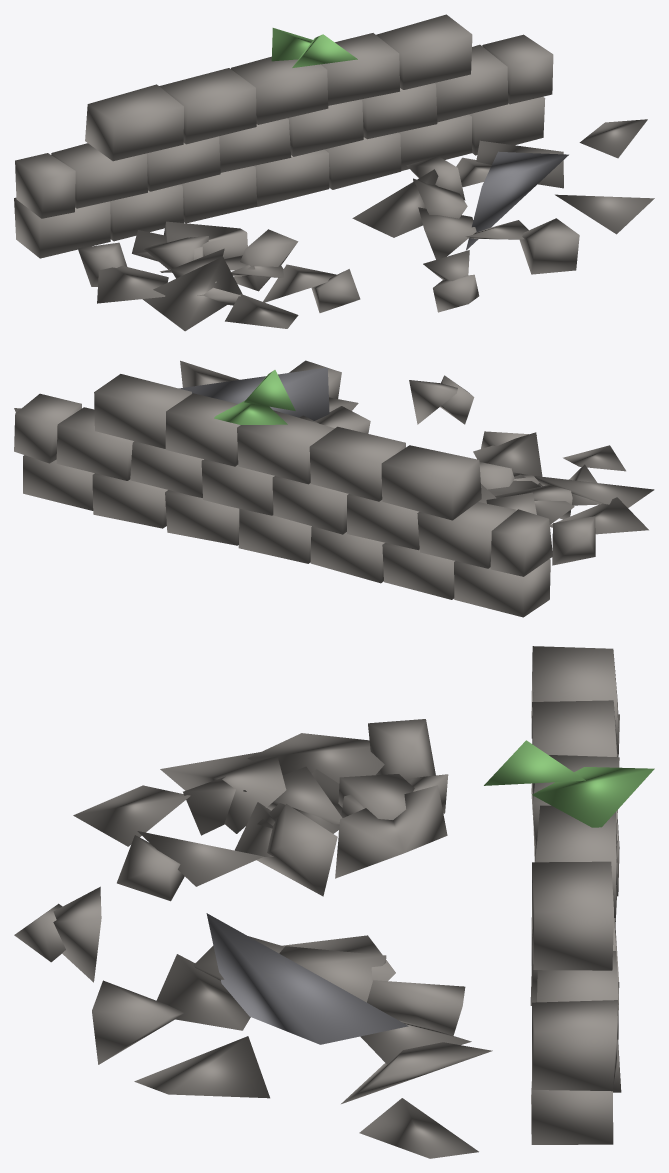
The model's file is poi_ruin_wall_c_lods.492174a6.glb.
3 renders of one model, top to bottom at view 1: azimuth 30°, elevation 25°; view 2: azimuth 150°, elevation 25°; view 3: azimuth 270°, elevation 25°, orthographic. The views are drawn at different scales.
Visible parts, largest first — view 1: poi_ruin_wall_c_far; view 2: poi_ruin_wall_c_far; view 3: poi_ruin_wall_c_far.
Boxes of the visible parts, x1,y1,x2,y2 form: poi_ruin_wall_c_far: [14, 14, 654, 331]; poi_ruin_wall_c_far: [14, 360, 654, 617]; poi_ruin_wall_c_far: [14, 646, 654, 1158].
Size of what is drawn, in the model's own units: 7.41 by 1.91 by 4.57.
